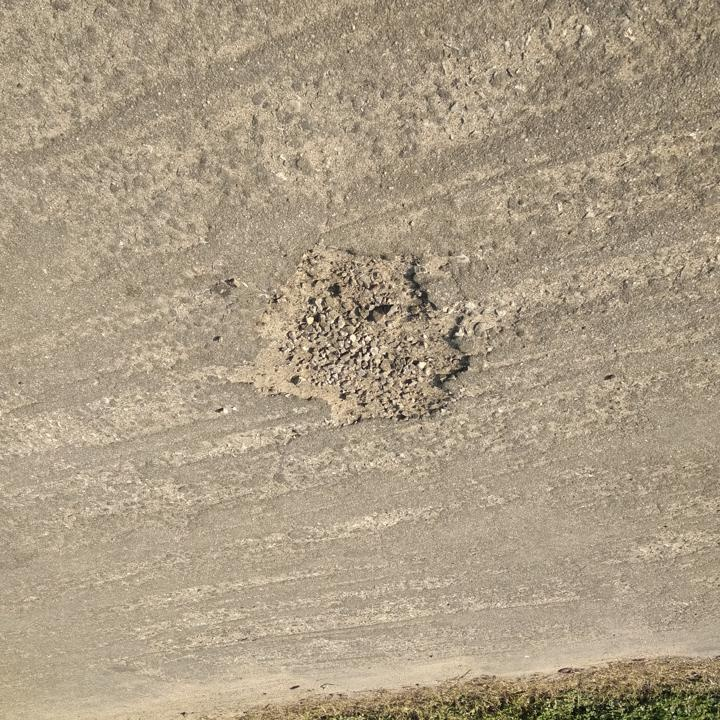pothole: (220, 241, 473, 429)
